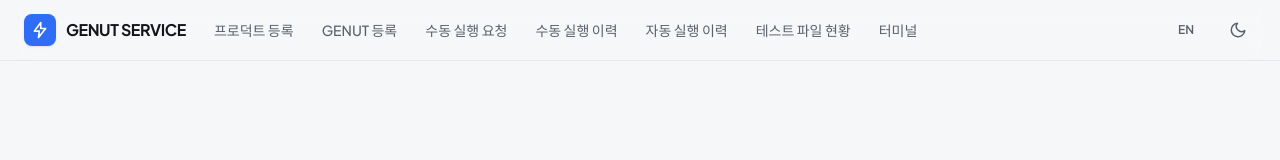
AppLayout › toggles the UI language between Korean and English
기본은 한국어 → EN 버튼을 누르면 영문으로 전환
Click the button with aria-label "영어로 전환": (1186, 30) [1168,12,1204,48]
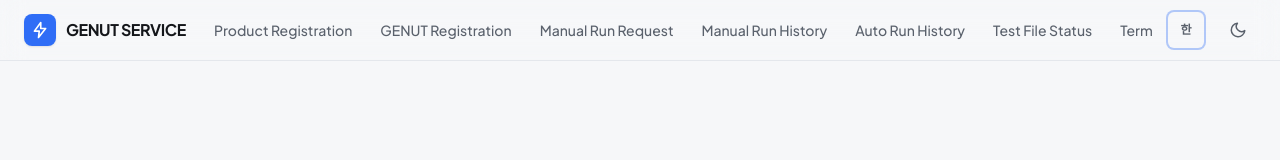
Now the link "Product Registration" is shown, box [214,21,352,39]
Now the link "Manual Run Request" is shown, box [540,21,674,39]
다시 누르면 한국어로 복귀
Click the button named "Switch to Korean": (1186, 30) [1168,12,1204,48]
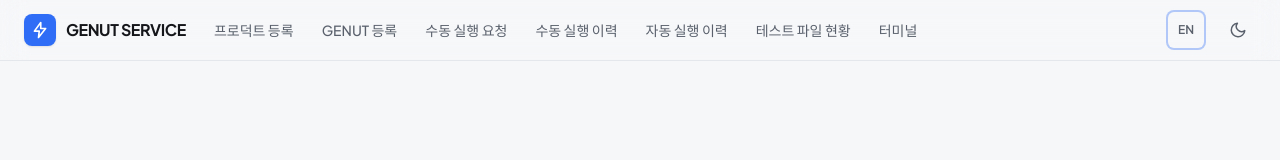
Now the link "프로덕트 등록" is shown, box [214,21,294,39]
